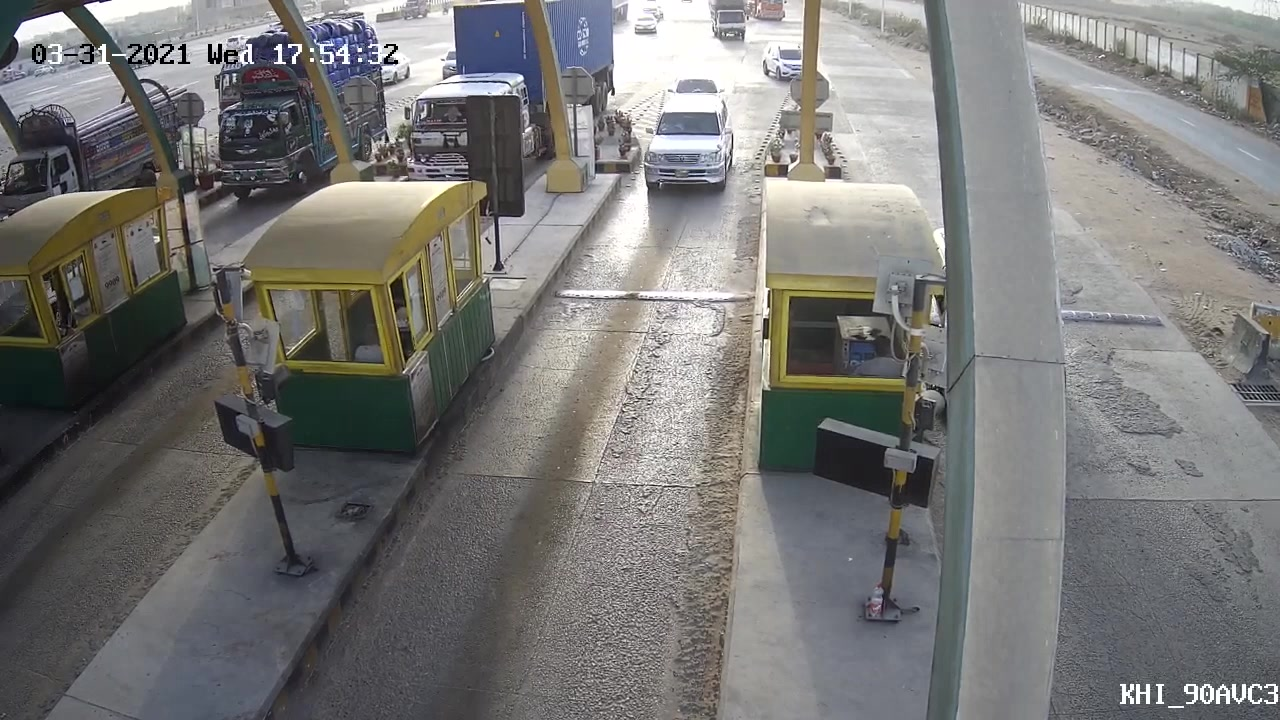F1: (630, 86, 736, 200)
